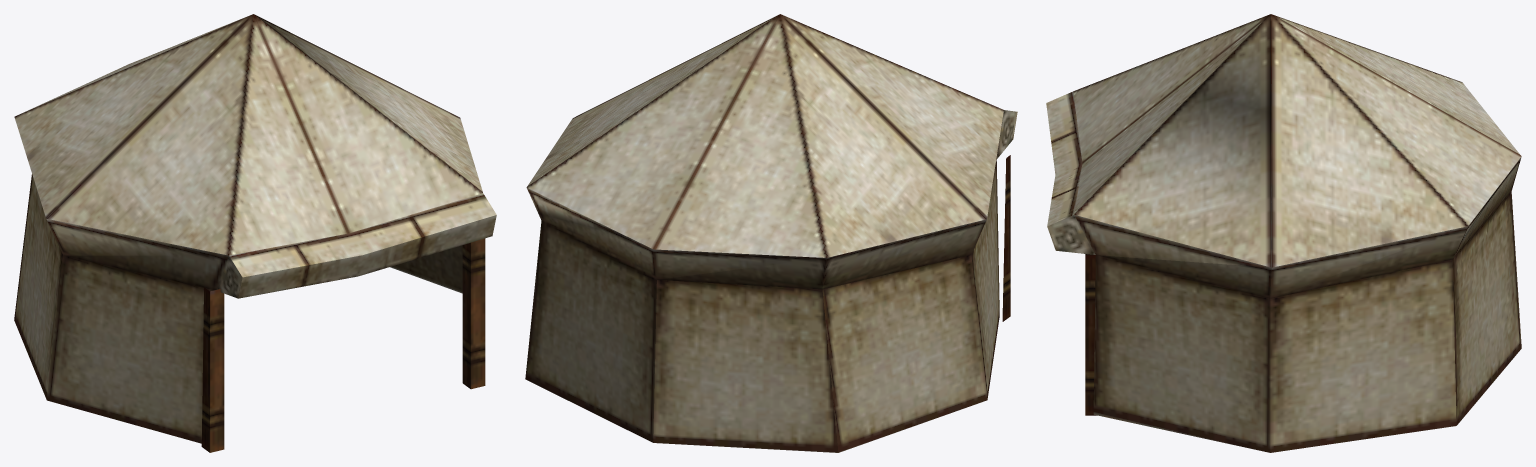
The model's file is b_general_obj_03.glb.
3 views of the same model, side by side, from view 1: azimuth 30°, elevation 25°; view 2: azimuth 150°, elevation 25°; view 3: azimuth 270°, elevation 25° (orthographic).
Parts seen in each view (by area): view 1: Mesh02; view 2: Mesh02; view 3: Mesh02.
Boxes of the visible parts, box(x1,y1,x2,y2) form: Mesh02: box(14, 14, 496, 452); Mesh02: box(525, 14, 1017, 452); Mesh02: box(1046, 14, 1521, 452).
Size of the model in its own units: 6.72 by 5.1 by 6.56.
Materials: 1 (1 with a texture image).
